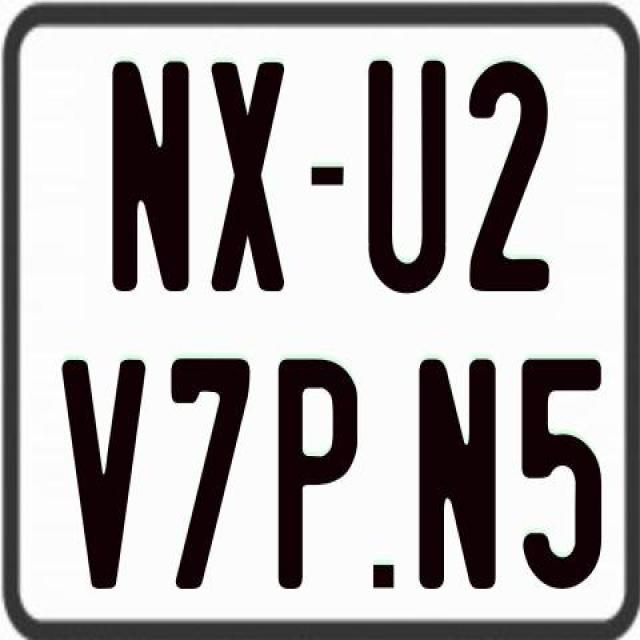2: (469, 61, 554, 300)
5: (518, 358, 602, 590)
7: (170, 358, 250, 596)
N: (417, 354, 500, 594), (112, 61, 190, 293)
P: (277, 355, 364, 587)
U: (368, 59, 448, 296)
V: (58, 360, 146, 589)
X: (210, 59, 286, 291)
